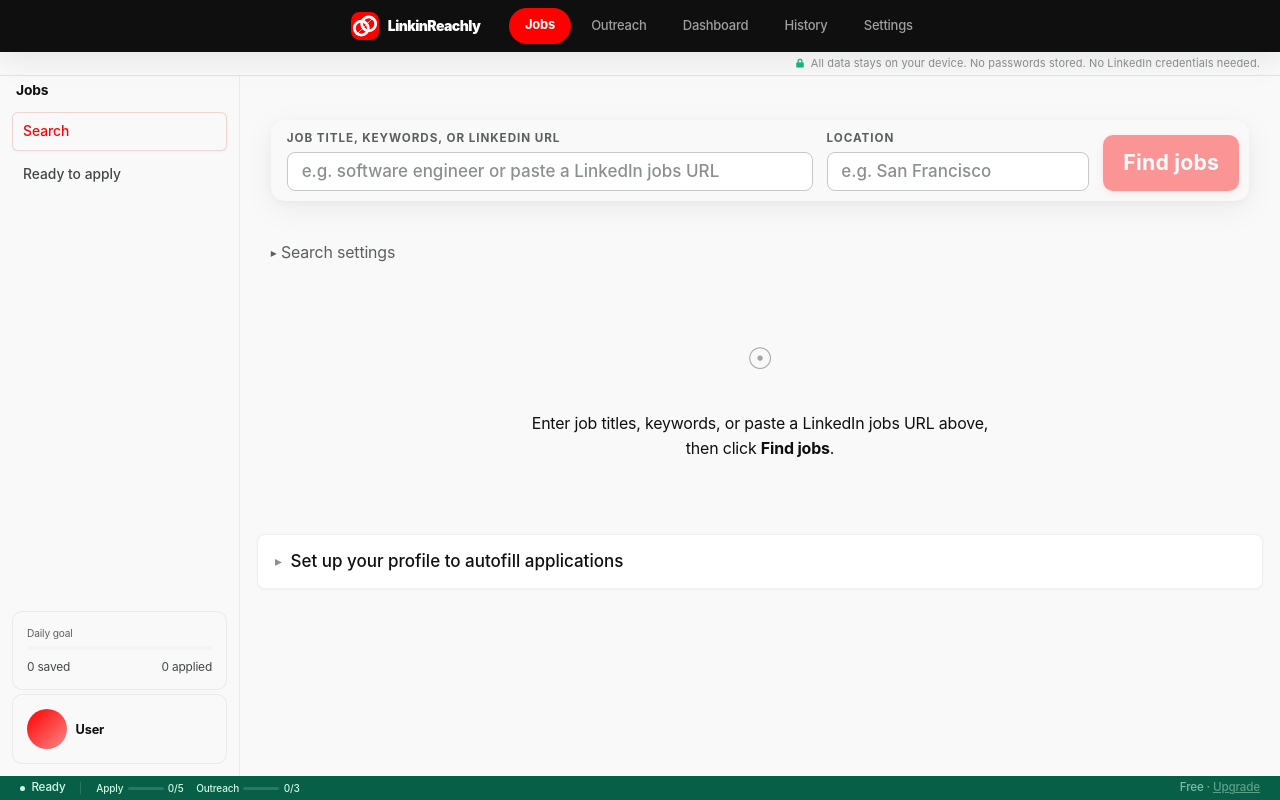
Wizard flow › builds a plan from the Goal step
The image size is (1280, 800).
Click the tab "Outreach" at (619, 25), box left=575, top=8, right=663, bottom=42
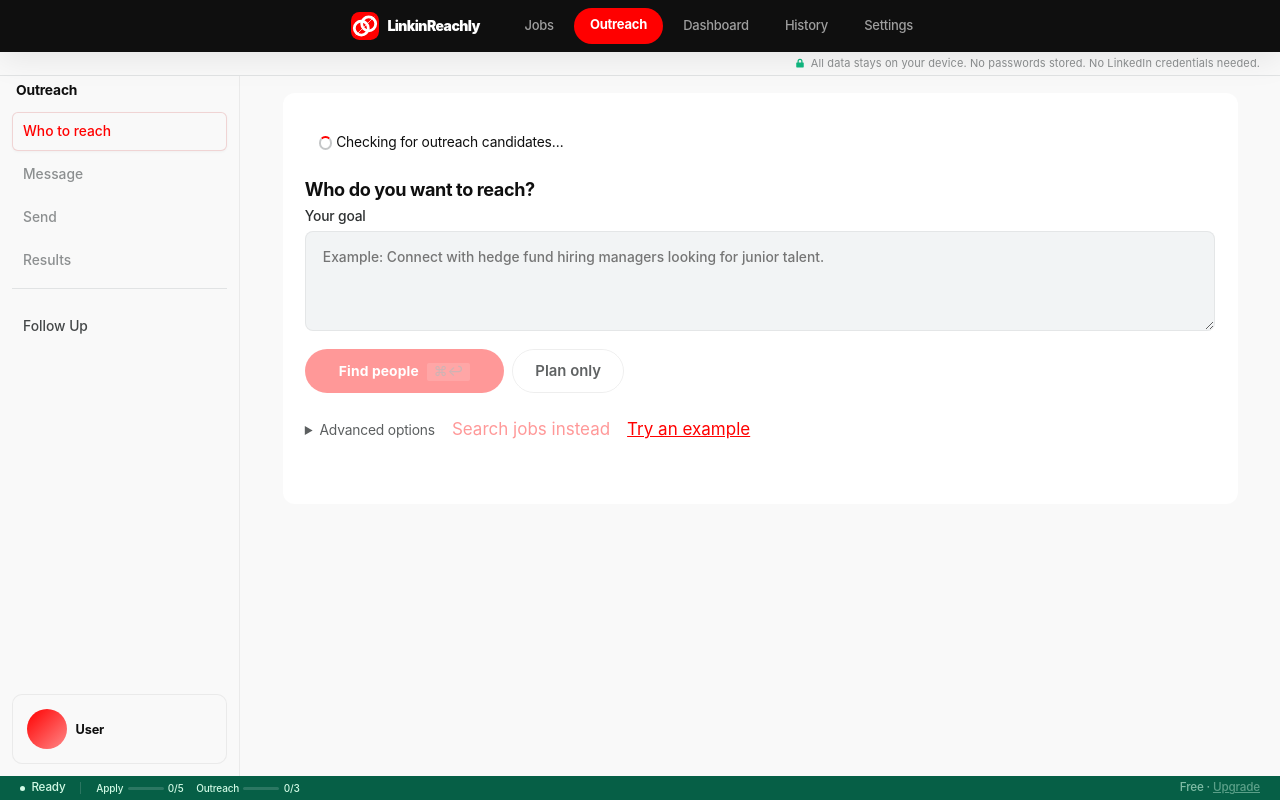
Replace the text in the text box labelled "Your goal" with "Connect with hedge fund hiring managers and recruiters." at (760, 281), box left=305, top=231, right=1215, bottom=331
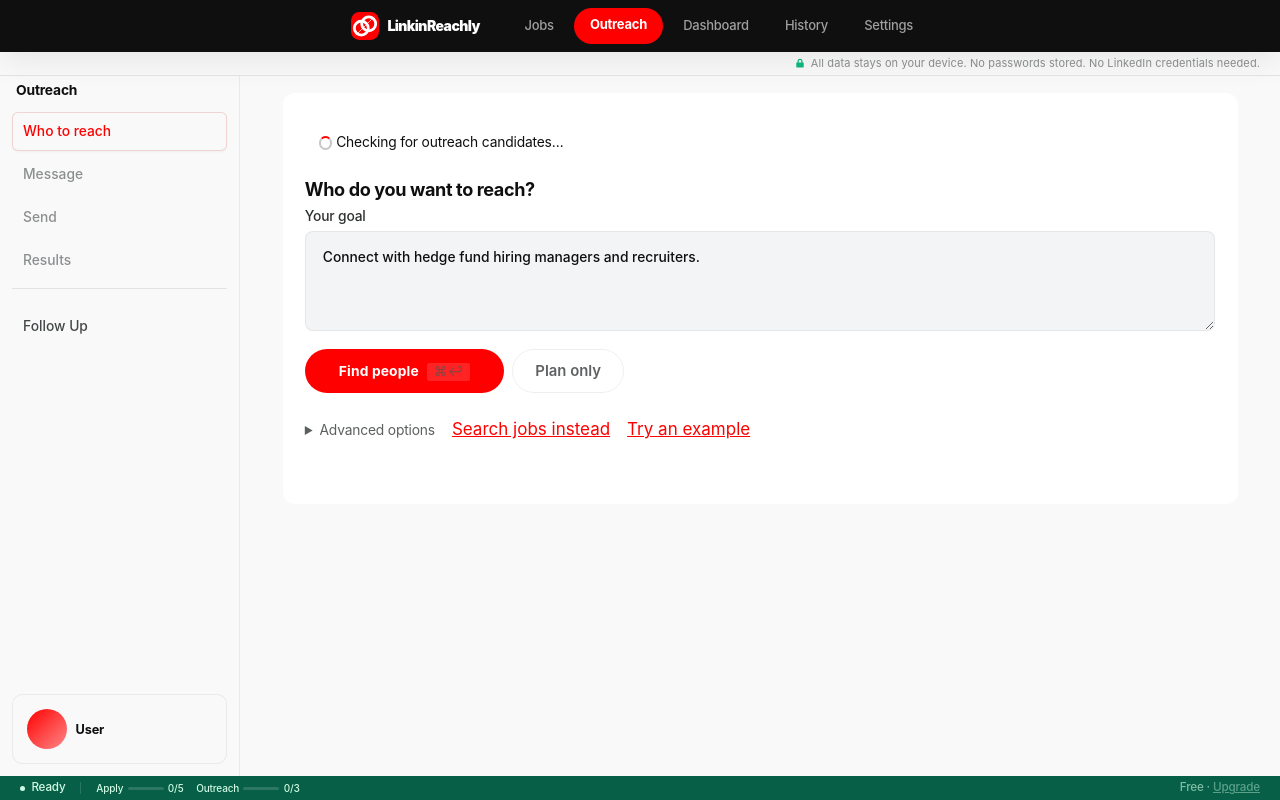
Click the button "Plan only" at (568, 371), box left=512, top=349, right=624, bottom=393
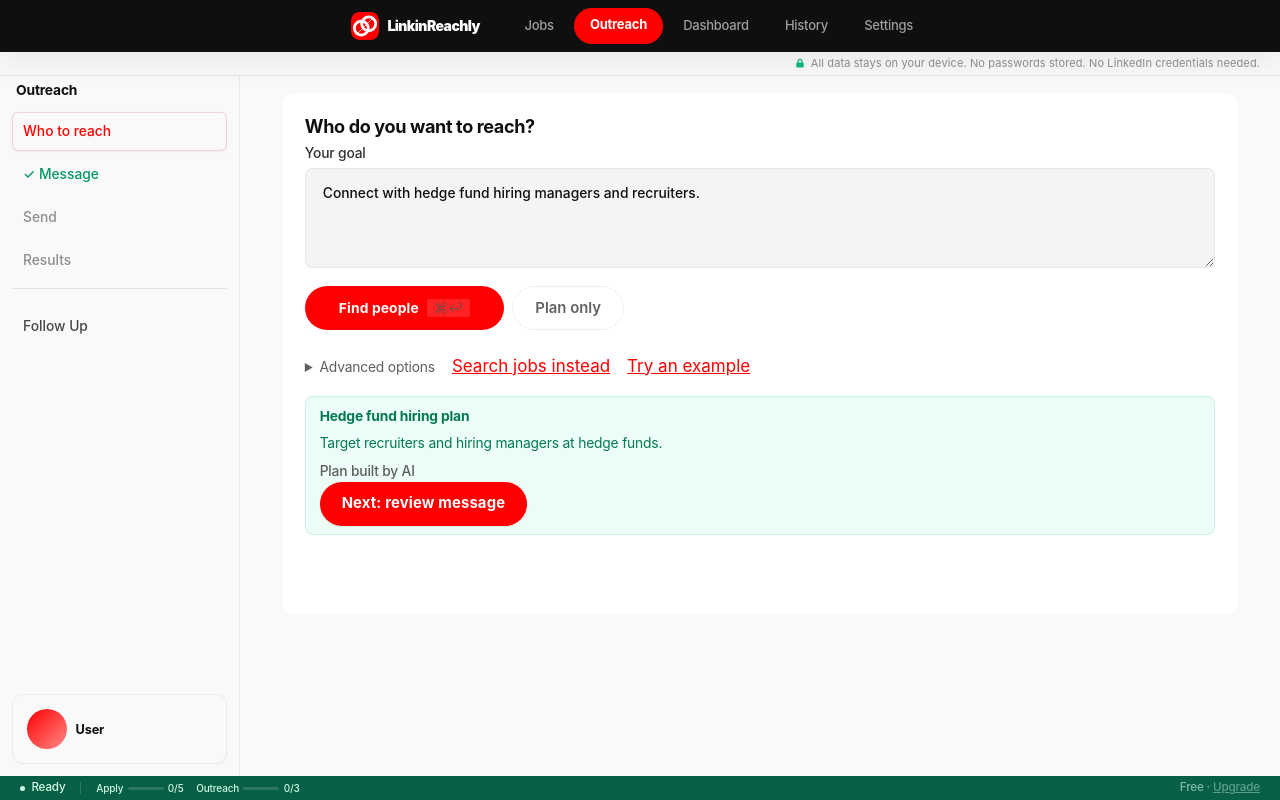
Expected: the text "Hedge fund hiring plan" is shown, left=320, top=408, right=469, bottom=424
Expected: the button "Next: review message" is shown, left=320, top=482, right=527, bottom=526
